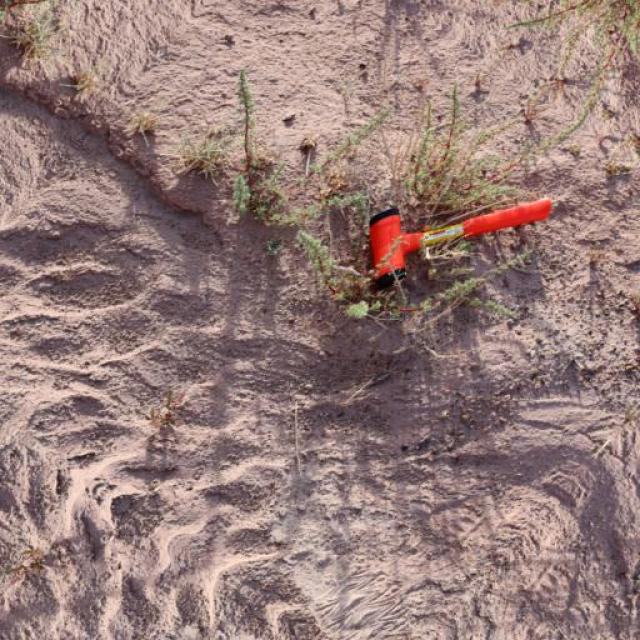mallet: (365, 194, 553, 288)
